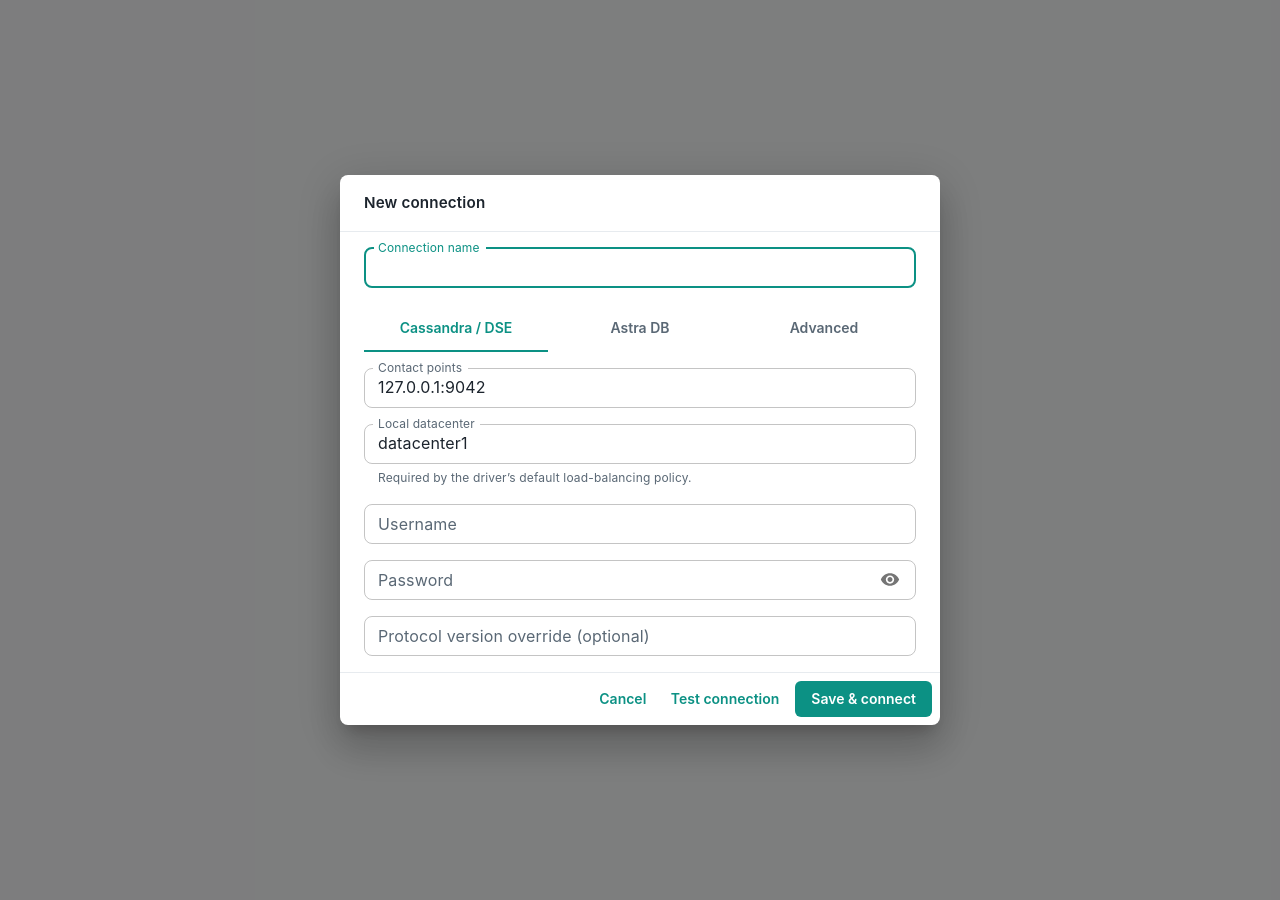
Test: ConnectionDialog › keeps the dialog open and shows the server problem when saving fails
Type "local" into the field with test id "connection-name". click: (640, 268)
box: [364,248,916,288]
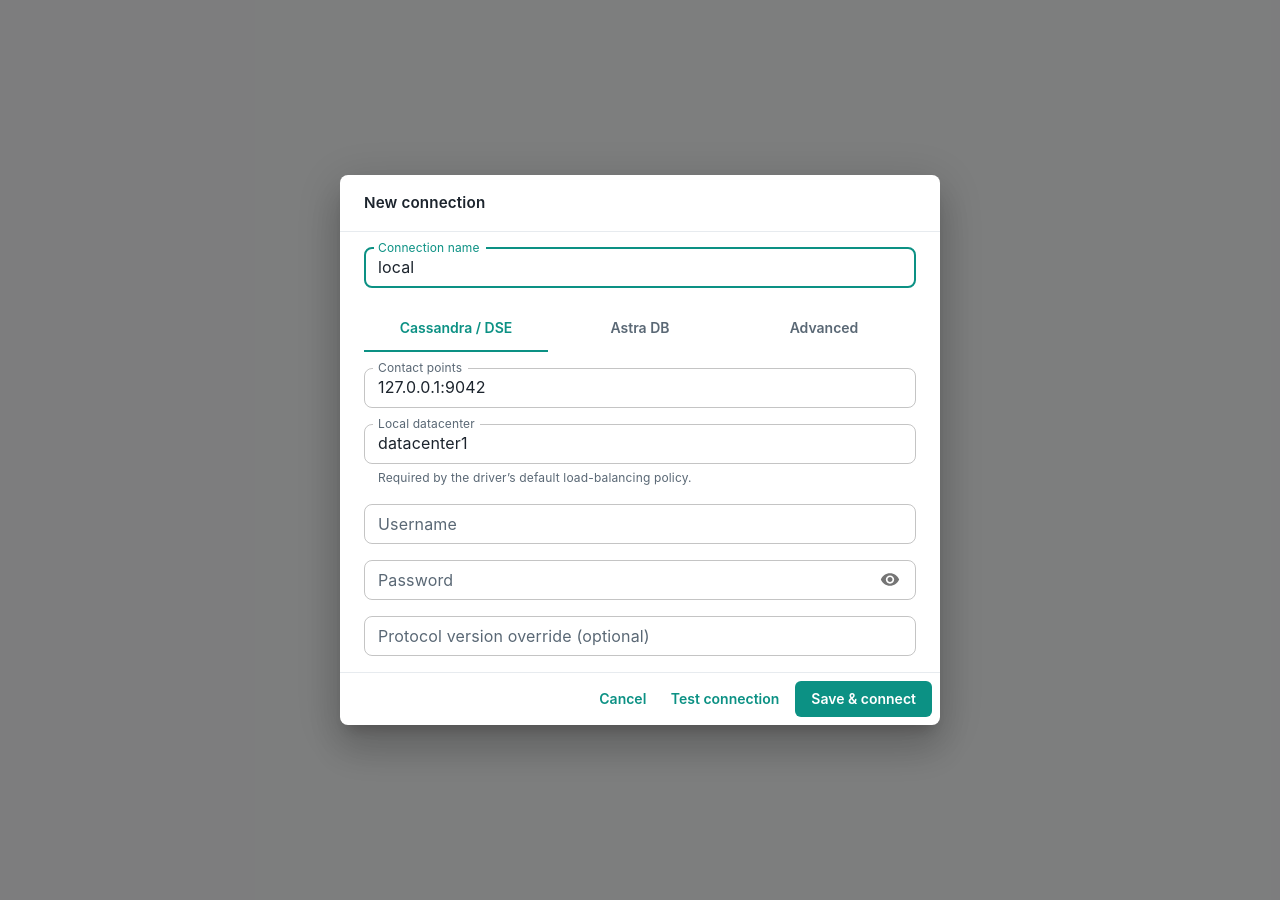
Click the button with test id "connection-save". click: (864, 699)
box: [795,681,932,717]
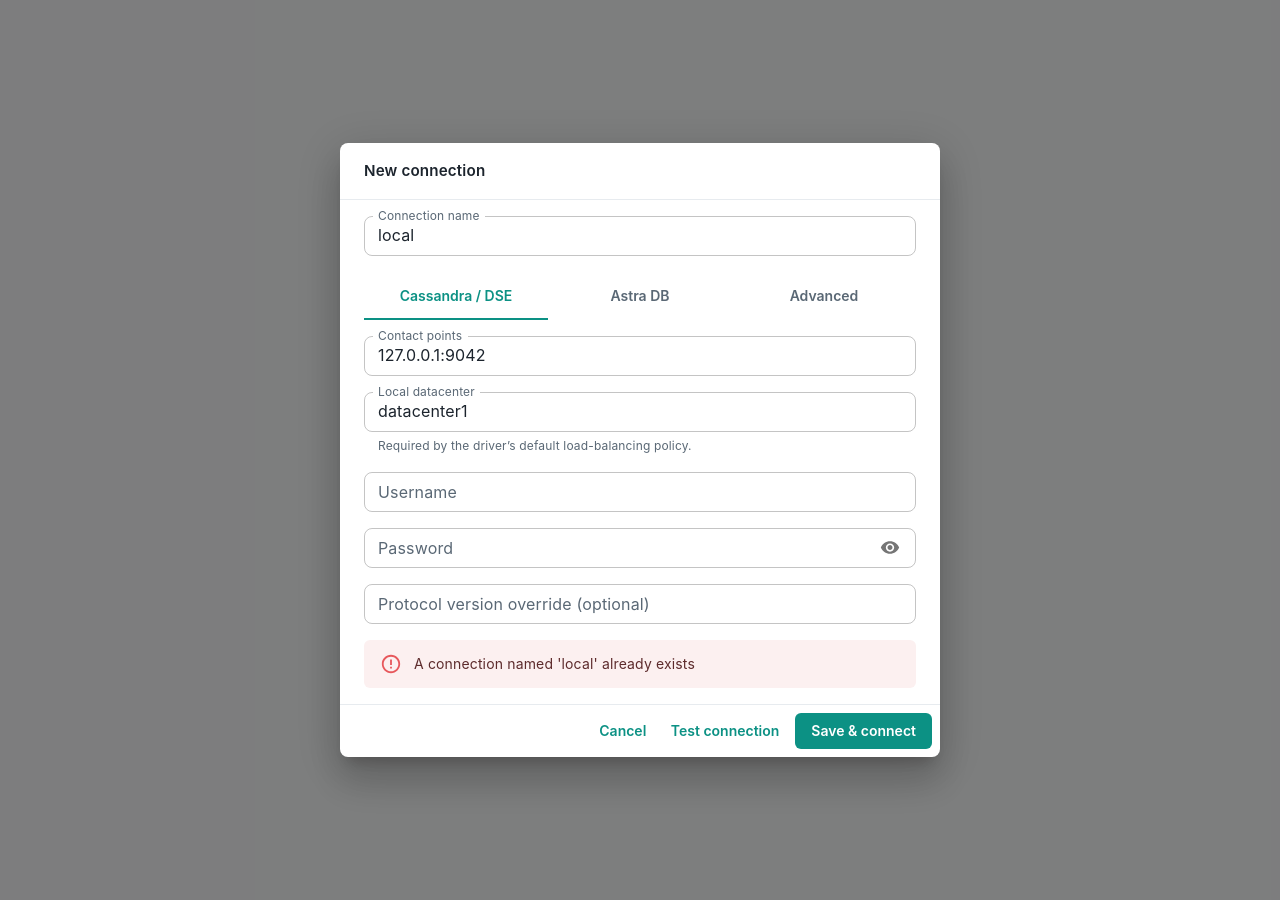
Result: the message with test id "connection-error" shows "already exists" at [414,655,695,672]
